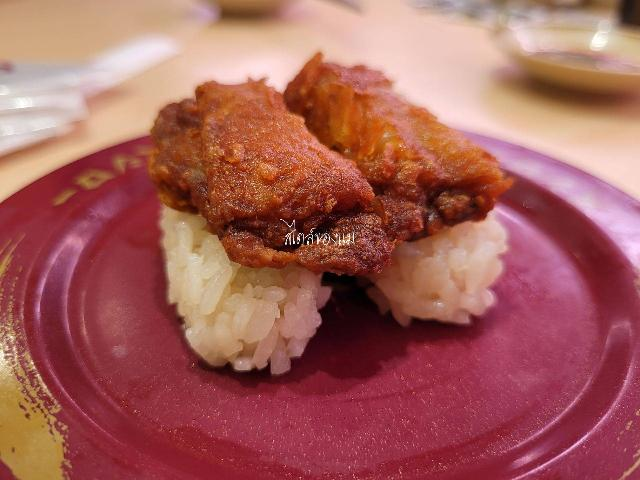janred: (3, 99, 627, 480)
